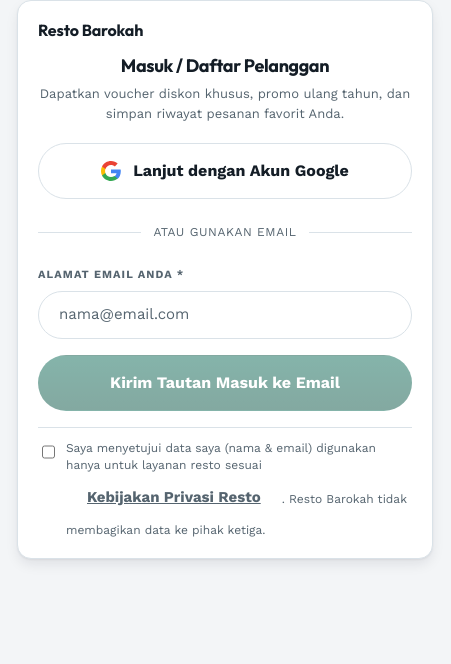
Test: LayarMasukPelanggan (T2-04) › meminta persetujuan privasi jika belum dicentang saat klik Google
The width and height of the screenshot is (451, 664).
Step 1. Click the button "Lanjut dengan Akun Google" → x=225, y=171, box [38,143,412,199]
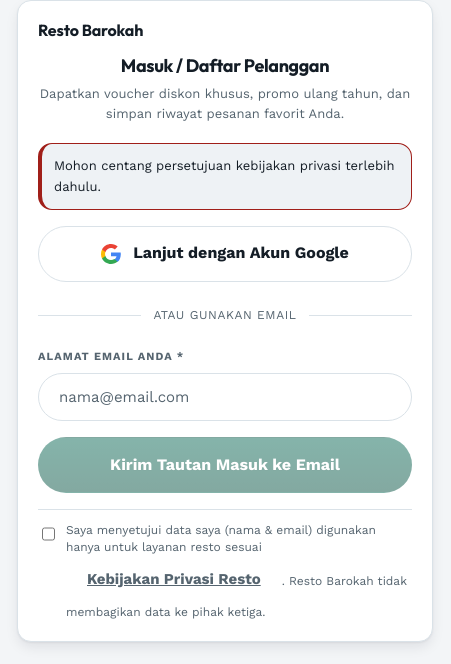
Now the text "Mohon centang persetujuan kebijakan privasi terlebih dahulu." is shown, box [38,143,412,210]
